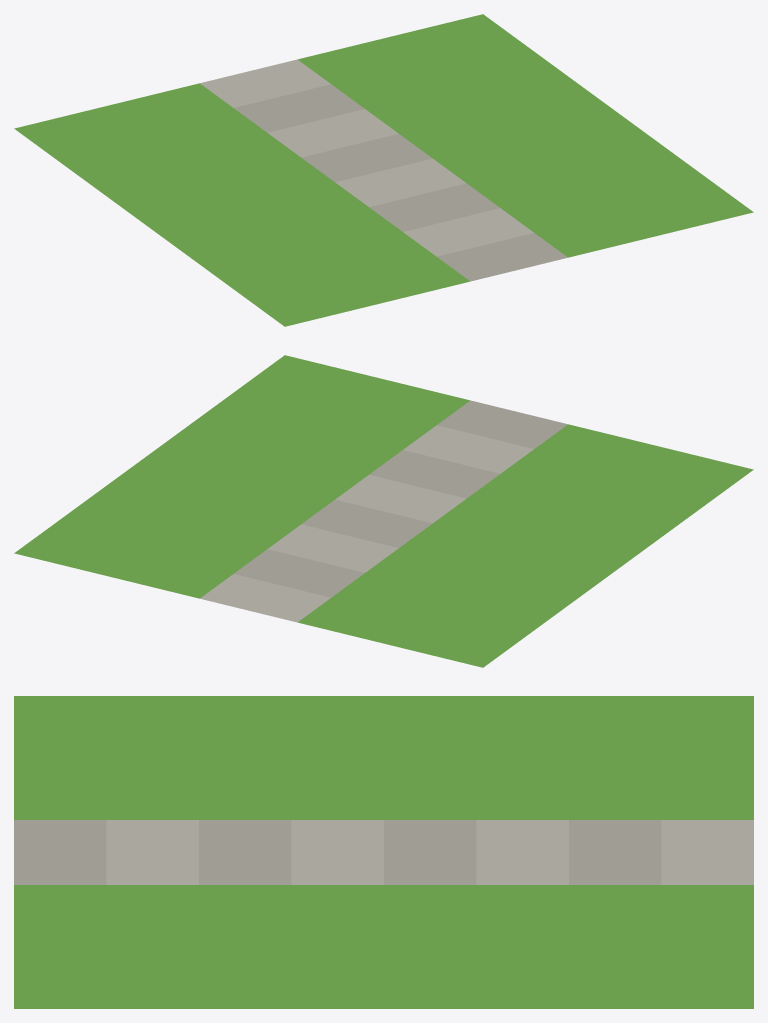
Rendered from calcada-reta.glb.
3 views of the same model, one above another, from view 1: azimuth 30°, elevation 25°; view 2: azimuth 150°, elevation 25°; view 3: azimuth 270°, elevation 25° (orthographic). The views are drawn at different scales.
Visible parts, largest first — view 1: Grama, Calcada; view 2: Grama, Calcada; view 3: Grama, Calcada.
Part boxes in pixels (bbox=[...]): Grama: bbox=[14, 14, 753, 326]; Calcada: bbox=[200, 59, 567, 281]; Grama: bbox=[14, 355, 753, 667]; Calcada: bbox=[200, 400, 567, 622]; Grama: bbox=[14, 696, 753, 1008]; Calcada: bbox=[14, 820, 753, 884].
Size of the model in its own units: 12 by 0 by 12.
